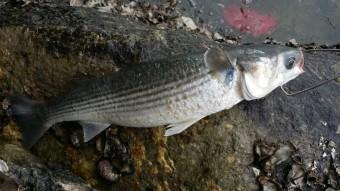fish: (4, 45, 307, 150)
